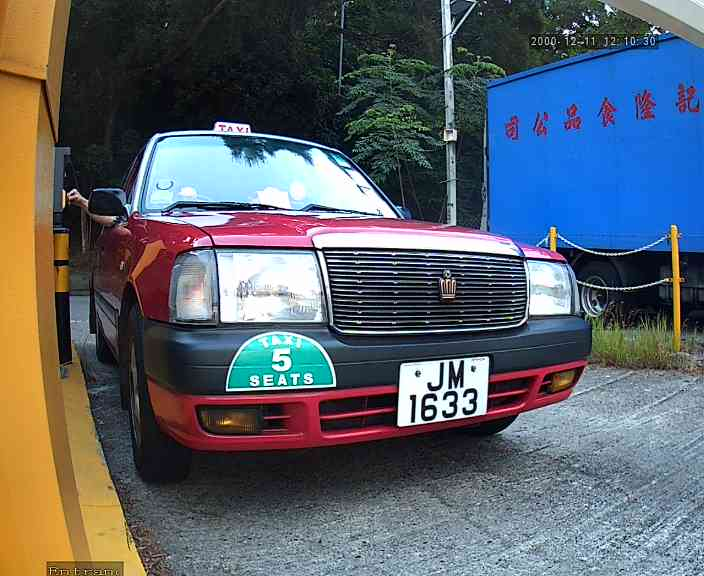bottom_left_lp: (391, 421, 404, 430)
bottom_left_radiator: (328, 319, 344, 339)
bottom_left_windshield: (132, 204, 153, 217)
bottom_right_lp: (481, 408, 488, 418)
bottom_right_radiator: (516, 316, 531, 328)
bottom_right_windshield: (394, 213, 406, 222)
brand: (437, 268, 460, 301)
left_headlight: (169, 240, 329, 327)
right_headlight: (521, 252, 584, 321)
top_left_lp: (397, 359, 404, 371)
top_left_radiator: (316, 241, 329, 256)
top_left_windshield: (149, 128, 166, 145)
top_right_lp: (484, 351, 493, 360)
top_right_radiator: (518, 251, 531, 267)
top_right_windshield: (331, 144, 340, 156)
